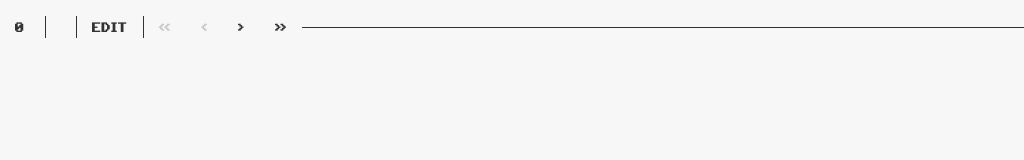
Test: Slice › allows changing slice type in edit mode
// Click Edit to enter edit mode
Click the text "Edit": click(110, 27) x1=77 y1=16 x2=143 y2=38
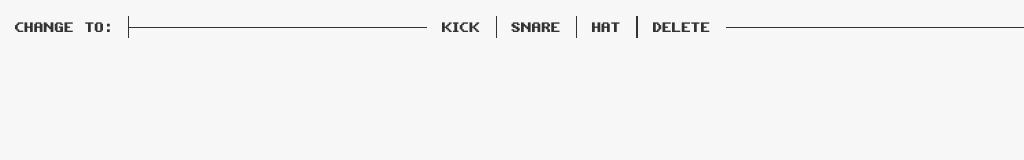
Expected: the text "Kick" is shown, x1=427 y1=16 x2=496 y2=38
Expected: the text "Snare" is shown, x1=496 y1=16 x2=576 y2=38
Expected: the text "Hat" is shown, x1=577 y1=16 x2=636 y2=38
